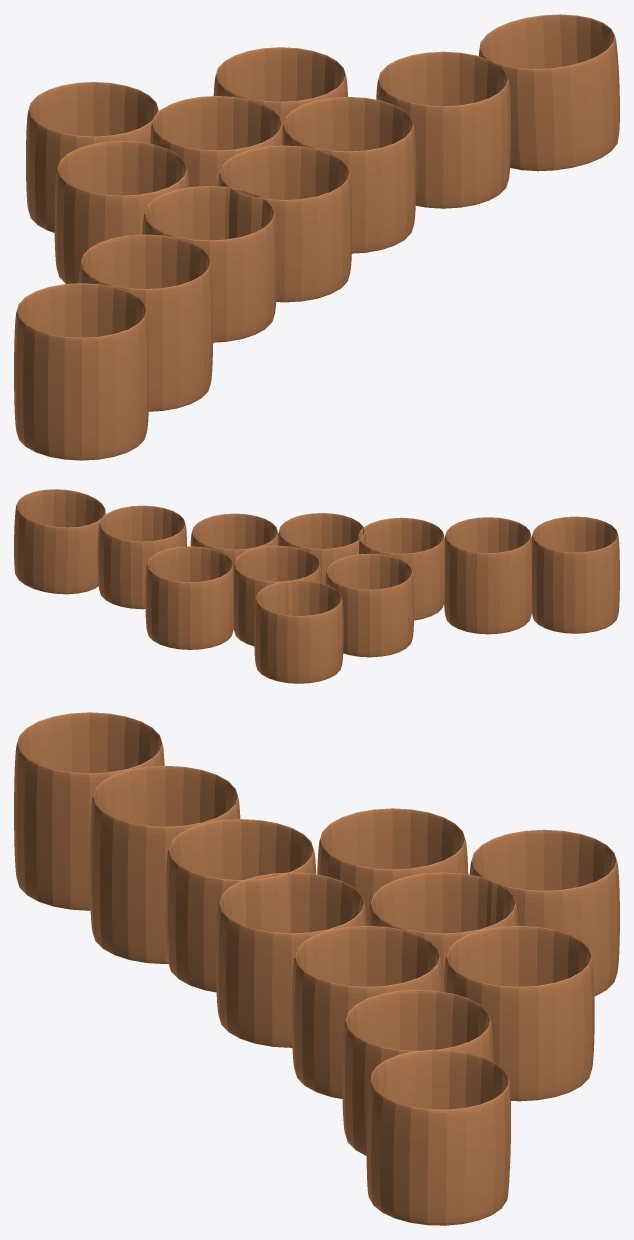
The model's file is SER.glb.
The picture shows the model from 3 angles, top to bottom: view 1: azimuth 30°, elevation 25°; view 2: azimuth 150°, elevation 25°; view 3: azimuth 270°, elevation 25°; orthographic projection. The views are drawn at different scales.
Parts seen in each view (by area): view 1: Mesh_Mesh_head_geo.001_lambert2SG.001; view 2: Mesh_Mesh_head_geo.001_lambert2SG.001; view 3: Mesh_Mesh_head_geo.001_lambert2SG.001.
Part boxes in pixels (x1,y1,x2,y2): Mesh_Mesh_head_geo.001_lambert2SG.001: [14, 14, 619, 460]; Mesh_Mesh_head_geo.001_lambert2SG.001: [14, 489, 619, 683]; Mesh_Mesh_head_geo.001_lambert2SG.001: [14, 712, 619, 1225].
Size of the model in its own units: 19.04 by 3.12 by 12.
